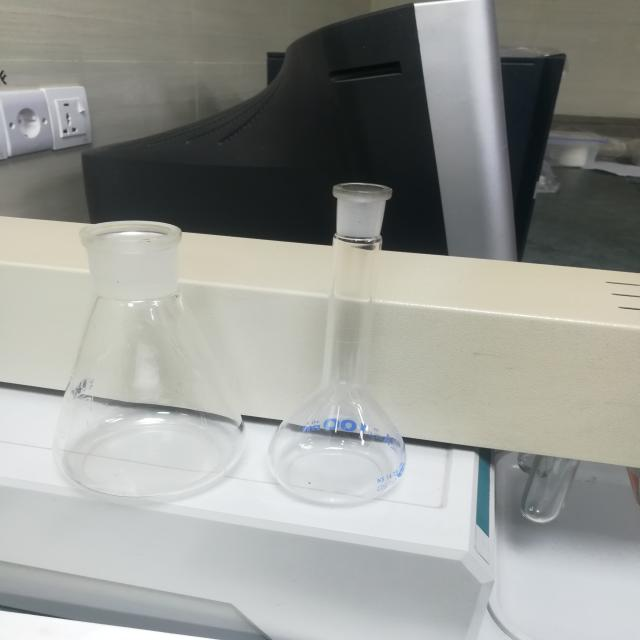Conical_Flask: (41, 191, 239, 507)
Volumetric_Flask: (250, 149, 459, 519)
